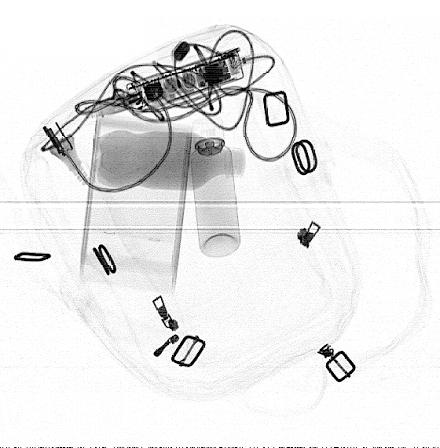Sprayer: (189, 118, 242, 257)
